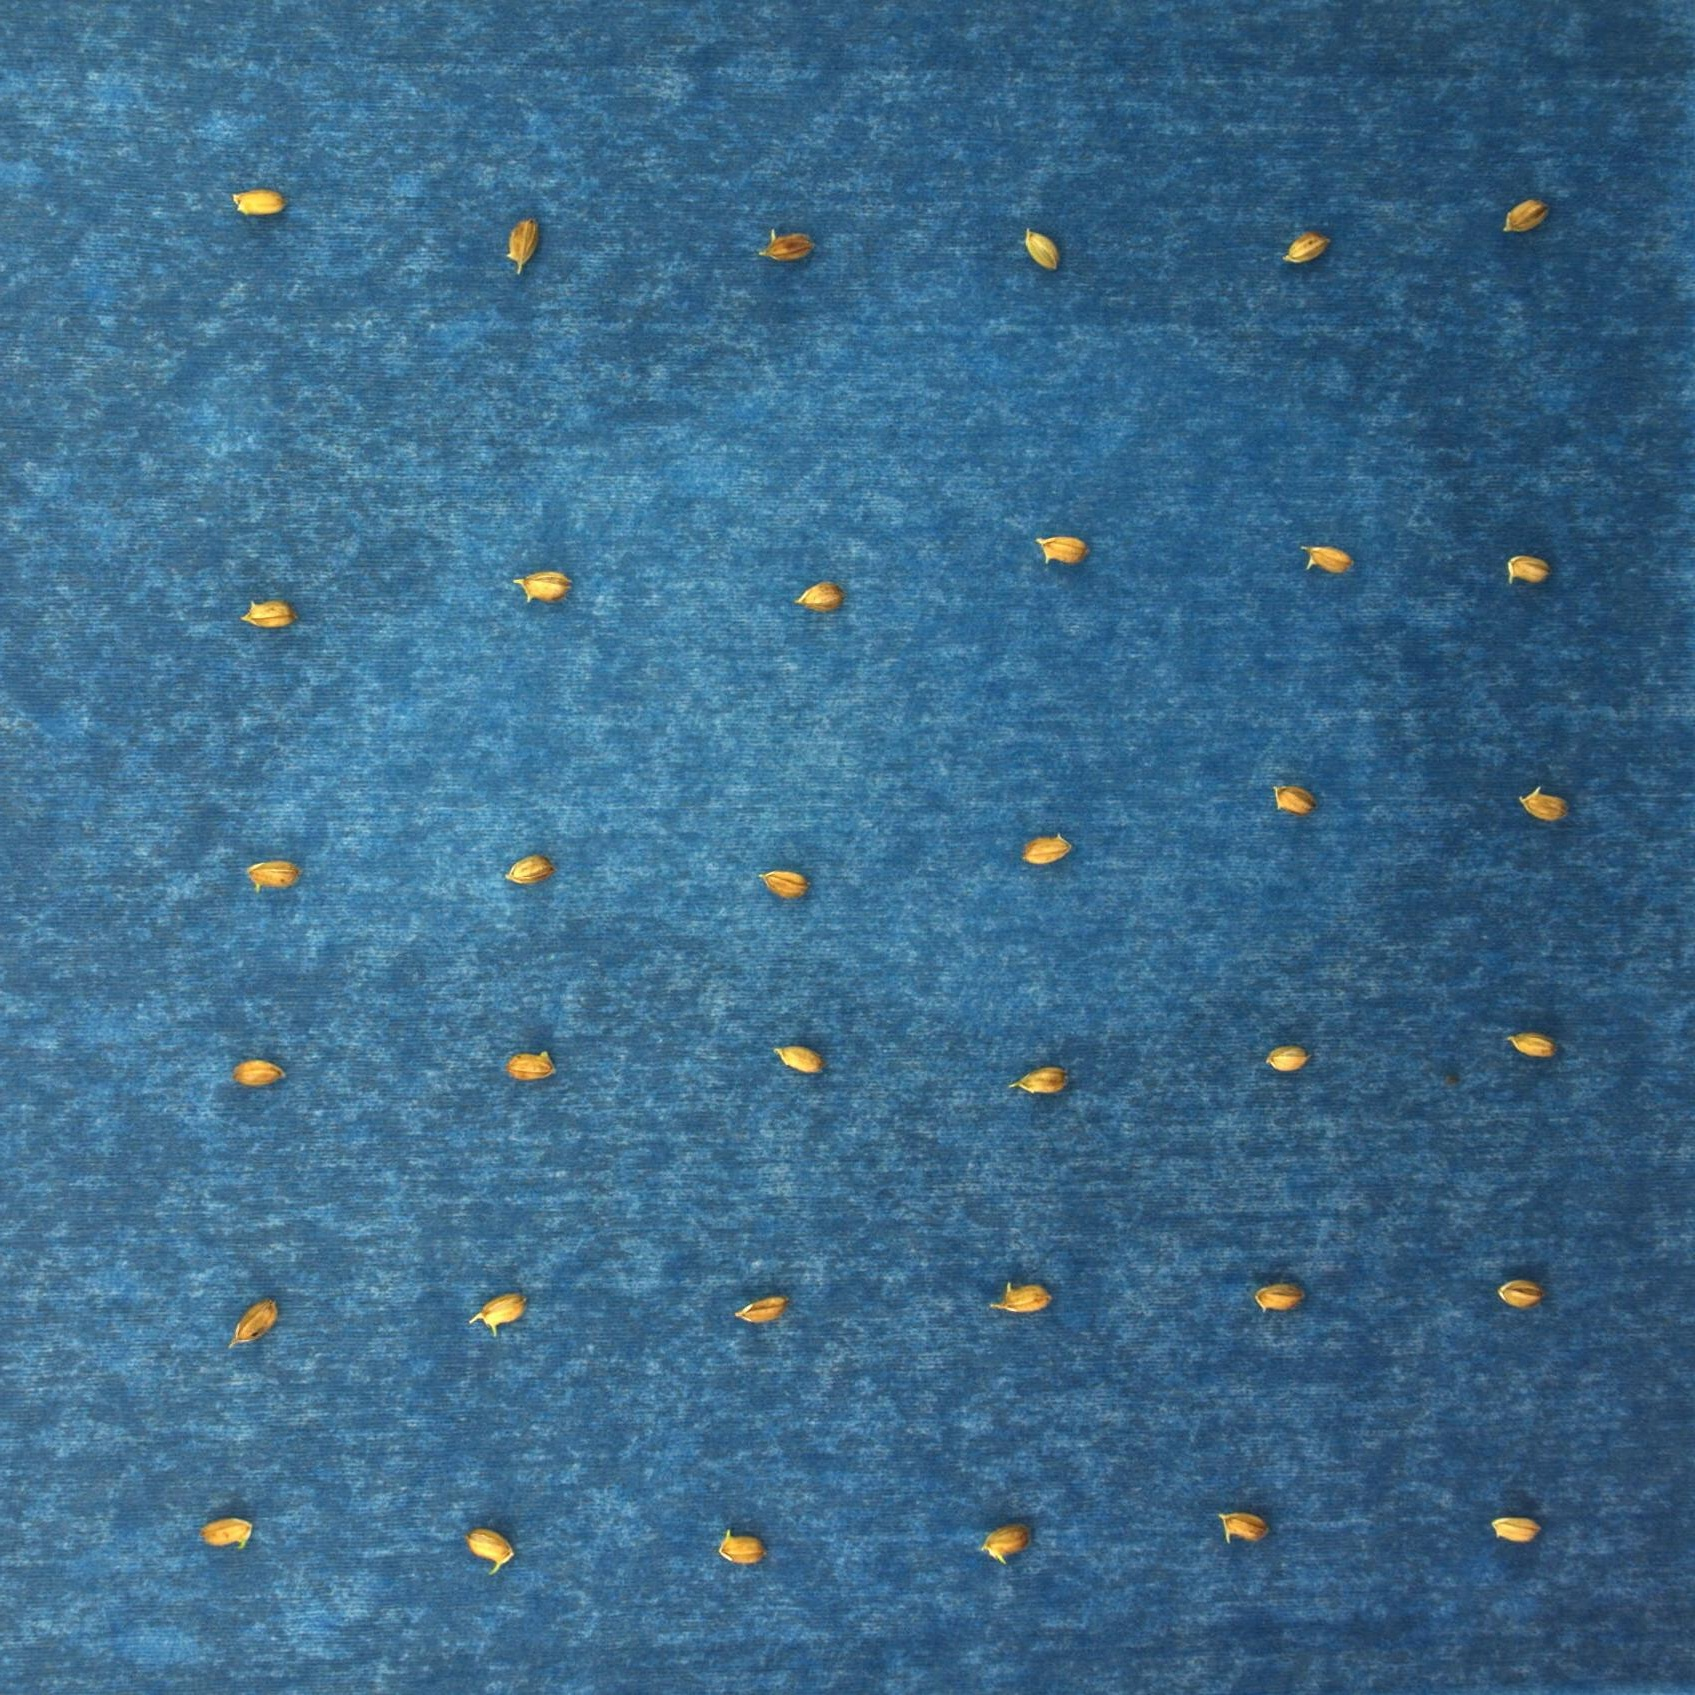not sprout: (467, 1291, 528, 1336), (230, 1299, 279, 1350), (504, 213, 543, 276), (464, 1527, 515, 1575), (979, 1523, 1034, 1568), (757, 228, 820, 264), (989, 1281, 1052, 1315), (515, 570, 574, 605), (247, 860, 303, 896), (1007, 1065, 1071, 1096), (1516, 785, 1569, 823), (503, 854, 560, 888), (792, 581, 847, 615), (1504, 197, 1551, 237), (1024, 224, 1063, 272), (1301, 543, 1357, 576), (720, 1529, 767, 1568), (239, 599, 300, 629), (1035, 536, 1093, 567), (199, 1520, 256, 1551), (757, 869, 813, 900), (1507, 1029, 1563, 1060), (1020, 832, 1073, 865), (736, 1295, 789, 1327), (1256, 1284, 1309, 1316), (1220, 1512, 1273, 1544), (773, 1045, 827, 1076), (230, 1059, 286, 1088), (1281, 234, 1329, 269), (1496, 1277, 1544, 1312), (1492, 1515, 1544, 1544), (1271, 781, 1316, 815), (234, 189, 287, 216), (508, 1052, 556, 1080), (1509, 556, 1555, 584), (1267, 1045, 1312, 1071)
